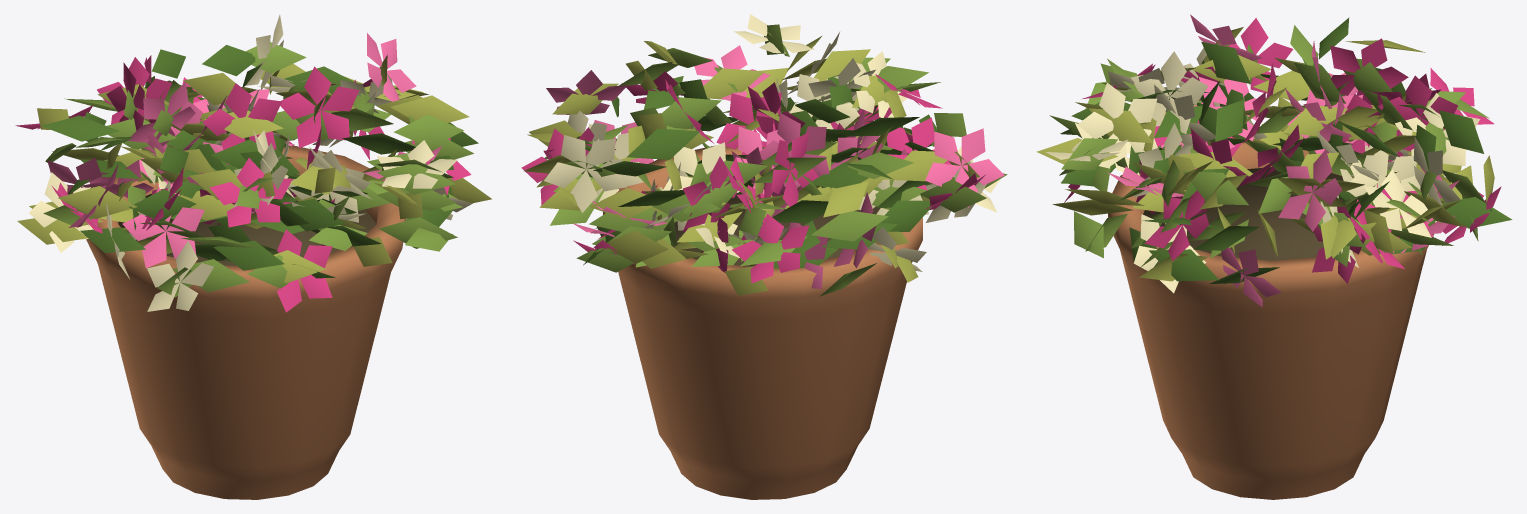
Rendered from PlanterFlowers.glb.
3 renders of one model, left to right at view 1: azimuth 30°, elevation 25°; view 2: azimuth 150°, elevation 25°; view 3: azimuth 270°, elevation 25°, orthographic. The views are drawn at different scales.
Parts seen in each view (by area): view 1: RK_PlanterFlowers_RK_Terracotta, RK_PlanterFlowers_RK_LeafGold, RK_PlanterFlowers_RK_Leaf, RK_PlanterFlowers_RK_LeafDark, RK_PlanterFlowers_RK_FlowerPink, RK_PlanterFlowers_RK_FlowerCream, RK_PlanterFlowers_RK_FlowerRose, RK_PlanterFlowers_RK_Soil; view 2: RK_PlanterFlowers_RK_Terracotta, RK_PlanterFlowers_RK_Leaf, RK_PlanterFlowers_RK_LeafGold, RK_PlanterFlowers_RK_FlowerCream, RK_PlanterFlowers_RK_FlowerPink, RK_PlanterFlowers_RK_LeafDark, RK_PlanterFlowers_RK_FlowerRose, RK_PlanterFlowers_RK_Soil; view 3: RK_PlanterFlowers_RK_Terracotta, RK_PlanterFlowers_RK_LeafGold, RK_PlanterFlowers_RK_Leaf, RK_PlanterFlowers_RK_FlowerCream, RK_PlanterFlowers_RK_FlowerPink, RK_PlanterFlowers_RK_LeafDark, RK_PlanterFlowers_RK_FlowerRose, RK_PlanterFlowers_RK_Soil.
Part boxes in pixels (x1,y1,x2,y2): RK_PlanterFlowers_RK_Terracotta: [86, 145, 406, 499]; RK_PlanterFlowers_RK_LeafGold: [17, 55, 491, 283]; RK_PlanterFlowers_RK_Leaf: [43, 42, 473, 297]; RK_PlanterFlowers_RK_LeafDark: [42, 45, 478, 278]; RK_PlanterFlowers_RK_FlowerPink: [15, 55, 471, 312]; RK_PlanterFlowers_RK_FlowerCream: [29, 14, 472, 311]; RK_PlanterFlowers_RK_FlowerRose: [47, 33, 441, 268]; RK_PlanterFlowers_RK_Soil: [118, 180, 376, 265]; RK_PlanterFlowers_RK_Terracotta: [603, 145, 922, 499]; RK_PlanterFlowers_RK_Leaf: [544, 24, 1007, 296]; RK_PlanterFlowers_RK_LeafGold: [524, 36, 979, 295]; RK_PlanterFlowers_RK_FlowerCream: [544, 14, 1000, 271]; RK_PlanterFlowers_RK_FlowerPink: [521, 71, 985, 283]; RK_PlanterFlowers_RK_LeafDark: [582, 74, 937, 268]; RK_PlanterFlowers_RK_FlowerRose: [546, 45, 1004, 288]; RK_PlanterFlowers_RK_Soil: [672, 193, 880, 266]; RK_PlanterFlowers_RK_Terracotta: [1108, 136, 1433, 499]; RK_PlanterFlowers_RK_LeafGold: [1036, 27, 1494, 281]; RK_PlanterFlowers_RK_Leaf: [1049, 25, 1491, 267]; RK_PlanterFlowers_RK_FlowerCream: [1045, 42, 1480, 293]; RK_PlanterFlowers_RK_FlowerPink: [1064, 18, 1501, 283]; RK_PlanterFlowers_RK_LeafDark: [1060, 17, 1512, 283]; RK_PlanterFlowers_RK_FlowerRose: [1107, 14, 1459, 307]; RK_PlanterFlowers_RK_Soil: [1143, 167, 1343, 260].
Bounding box in the file's own units: 1.27 × 1.1 × 1.21.
